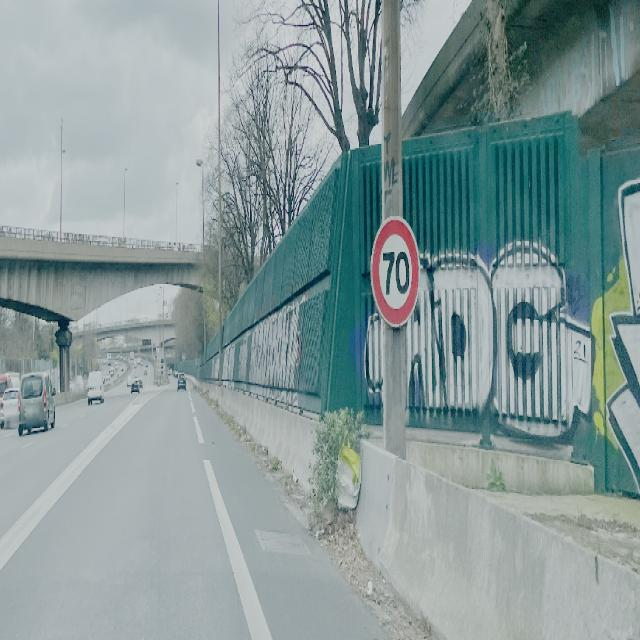speed_70: (370, 214, 420, 328)
